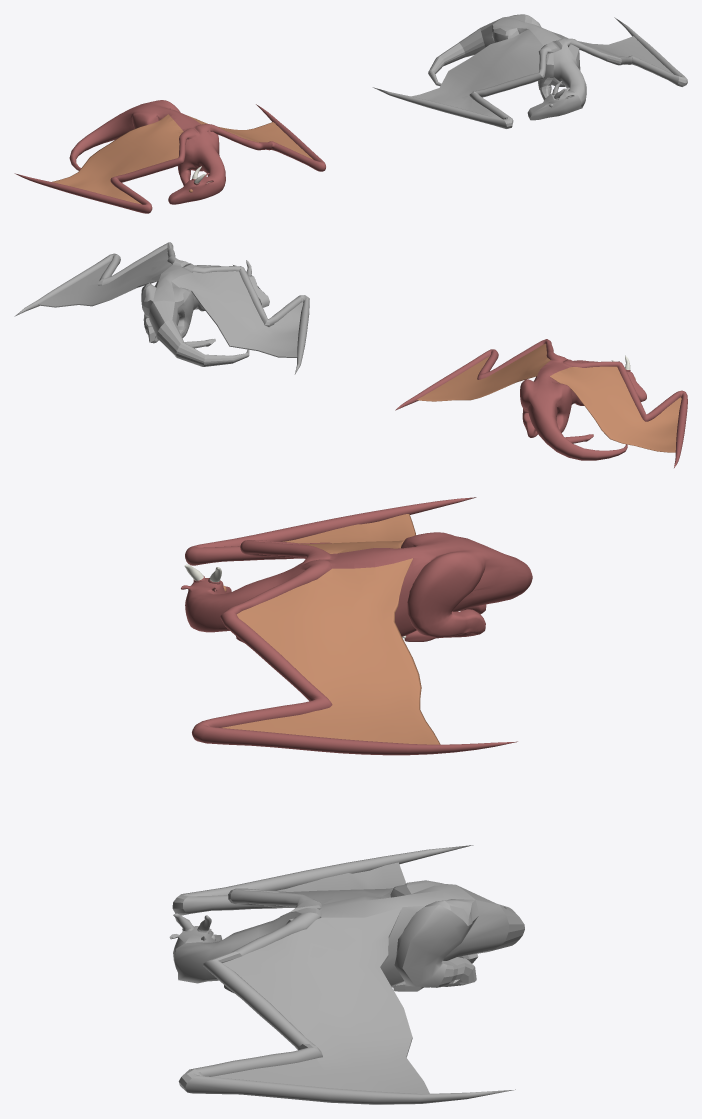
The model's file is dragon.fbx.
3 views of the same model, one above another, from view 1: azimuth 30°, elevation 25°; view 2: azimuth 150°, elevation 25°; view 3: azimuth 270°, elevation 25° (orthographic). The views are drawn at different scales.
Parts seen in each view (by area): view 1: pCube18, pCube19; view 2: pCube18, pCube19; view 3: pCube18, pCube19.
Boxes of the visible parts, x1,y1,x2,y2 form: pCube18: [372, 14, 687, 128]; pCube19: [14, 100, 325, 213]; pCube18: [14, 242, 309, 374]; pCube19: [395, 339, 687, 467]; pCube18: [169, 845, 524, 1104]; pCube19: [181, 497, 532, 755].
Size of the model in its own units: 34.65 by 2.7 by 8.91.
